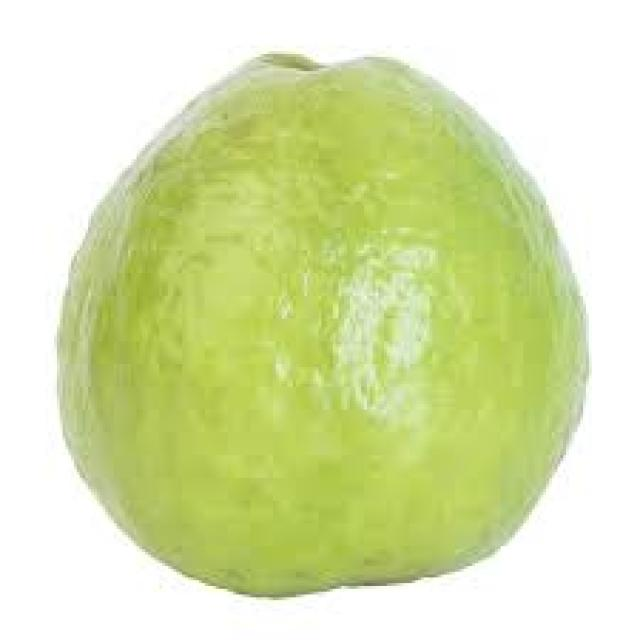Guava: (80, 51, 562, 577)
